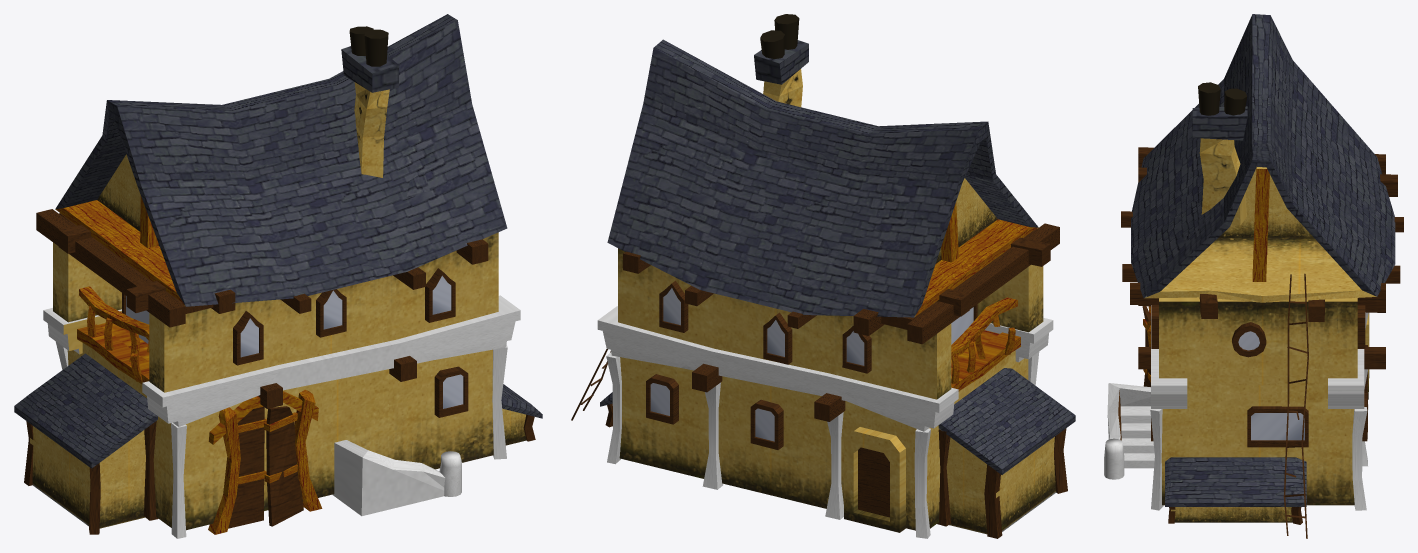
Rendered from maison02.FBX.
The picture shows the model from 3 angles, left to right: view 1: azimuth 30°, elevation 25°; view 2: azimuth 150°, elevation 25°; view 3: azimuth 270°, elevation 25°; orthographic projection. The views are drawn at different scales.
Parts seen in each view (by area): view 1: maison02; view 2: maison02; view 3: maison02.
Boxes of the visible parts, x1,y1,x2,y2 form: maison02: (14, 14, 542, 538); maison02: (571, 14, 1075, 538); maison02: (1104, 14, 1403, 538).
Size of the model in its own units: 7.24 by 6.4 by 4.52.
